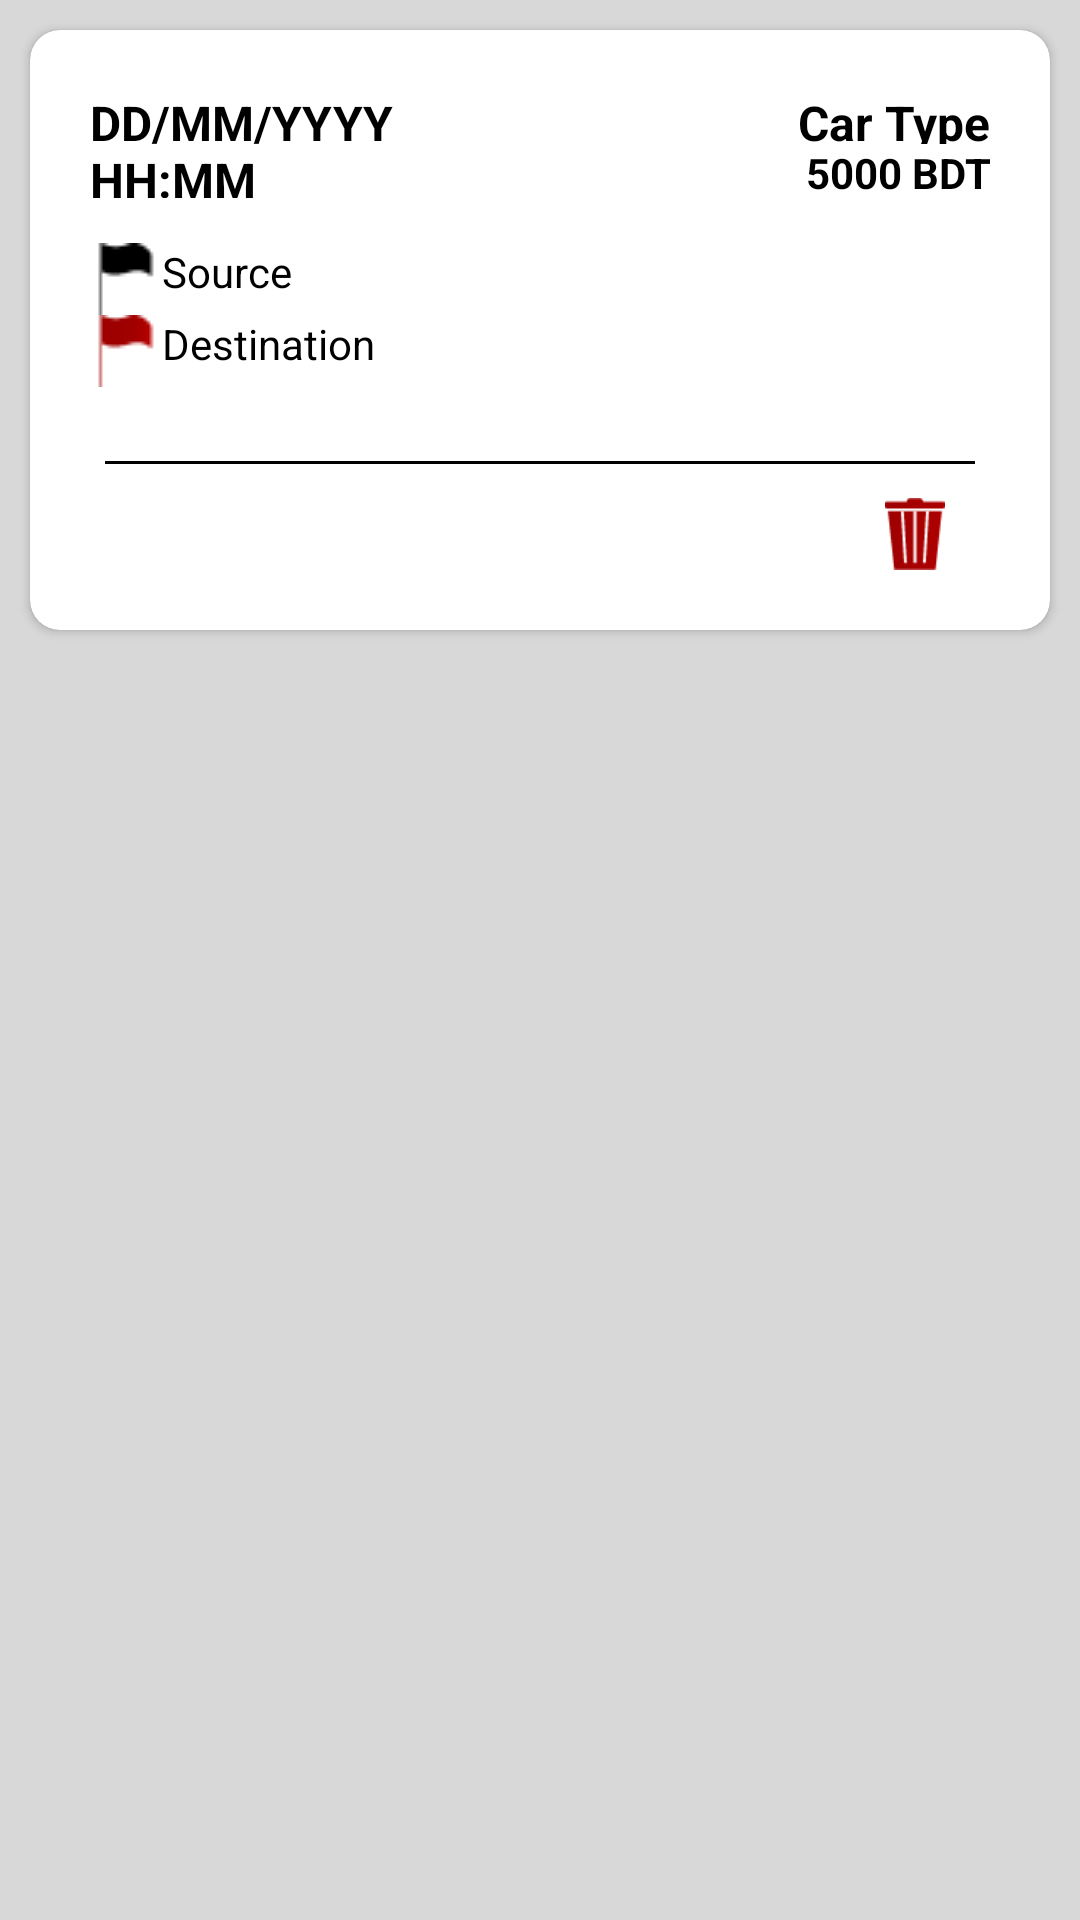

Screen size 1080x1920. Icon name, then its box in pixels as box(x1, y1, x2, y2):
delete item: box(885, 498, 945, 570)
